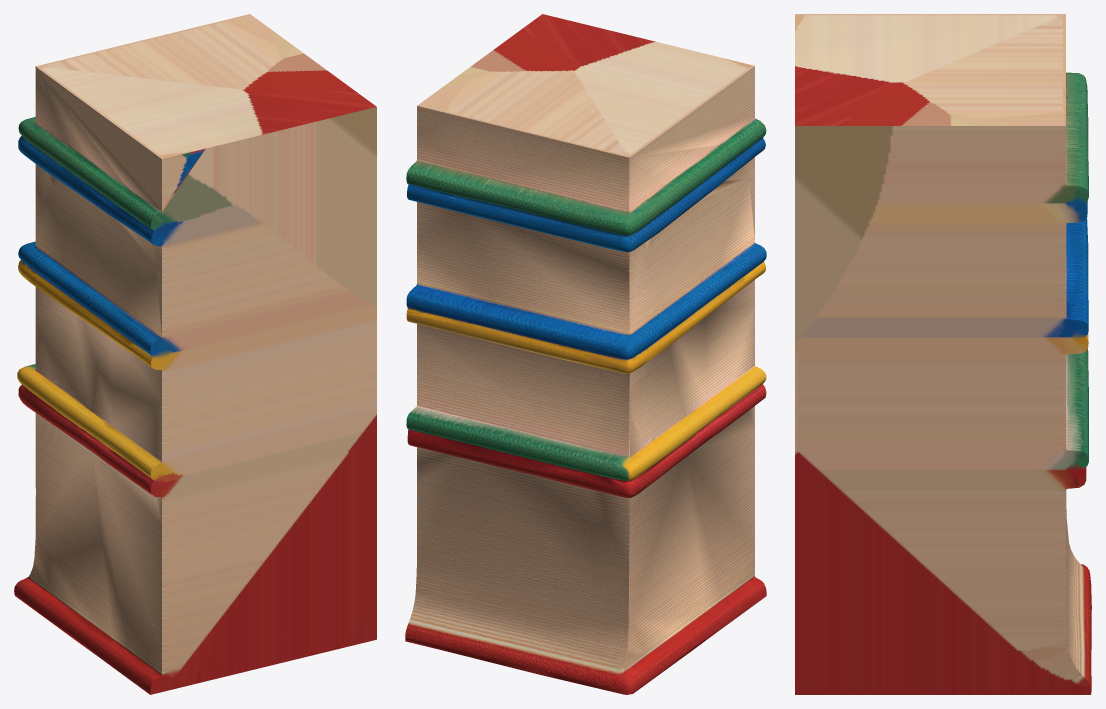
Rendered from 3-ground-floor-back-left.fbx.
The picture shows the model from 3 angles, left to right: view 1: azimuth 30°, elevation 25°; view 2: azimuth 150°, elevation 25°; view 3: azimuth 270°, elevation 25°; orthographic projection. The views are drawn at different scales.
Parts seen in each view (by area): view 1: ground-floor-back-left; view 2: ground-floor-back-left; view 3: ground-floor-back-left.
Part boxes in pixels (box(x1,y1,x2,y2)): ground-floor-back-left: box(14, 14, 376, 694); ground-floor-back-left: box(405, 14, 766, 694); ground-floor-back-left: box(795, 14, 1091, 694).
Size of the model in its own units: 6026 by 13497 by 6378.
Materials: 1 (1 with a texture image).
